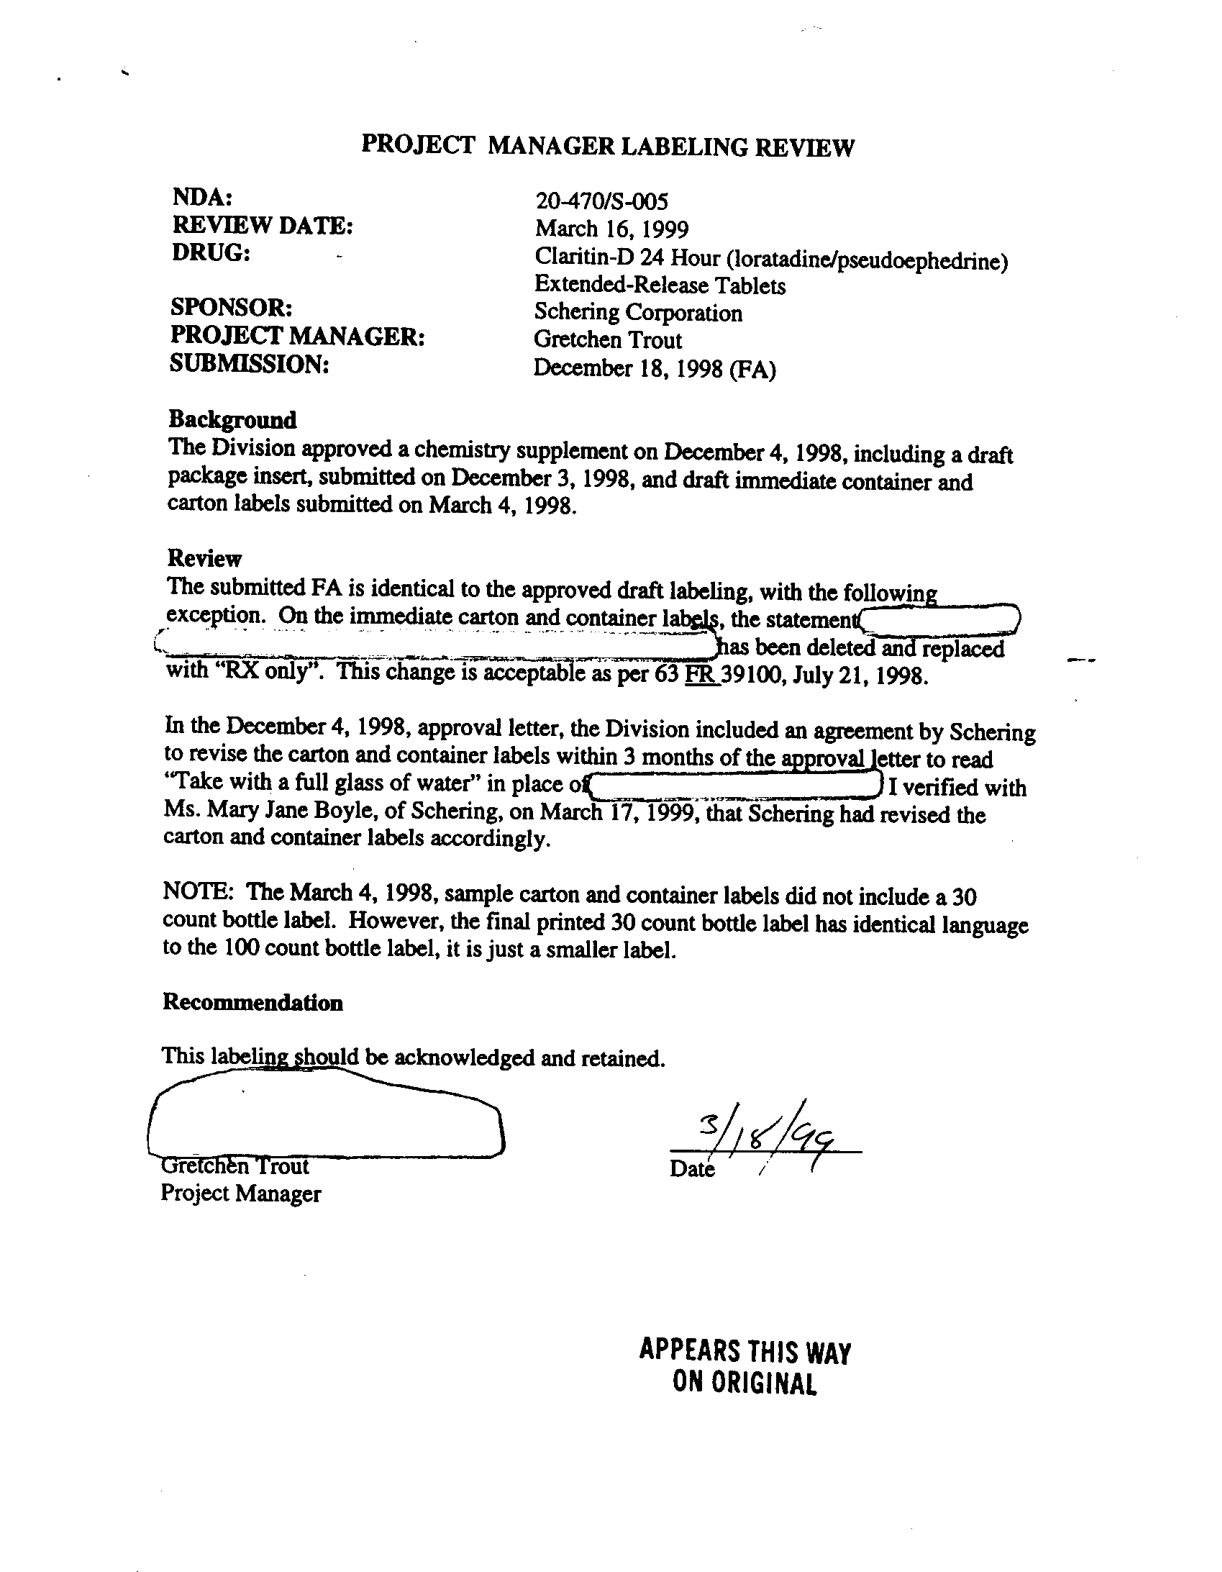nolines: (166, 179, 1006, 384)
